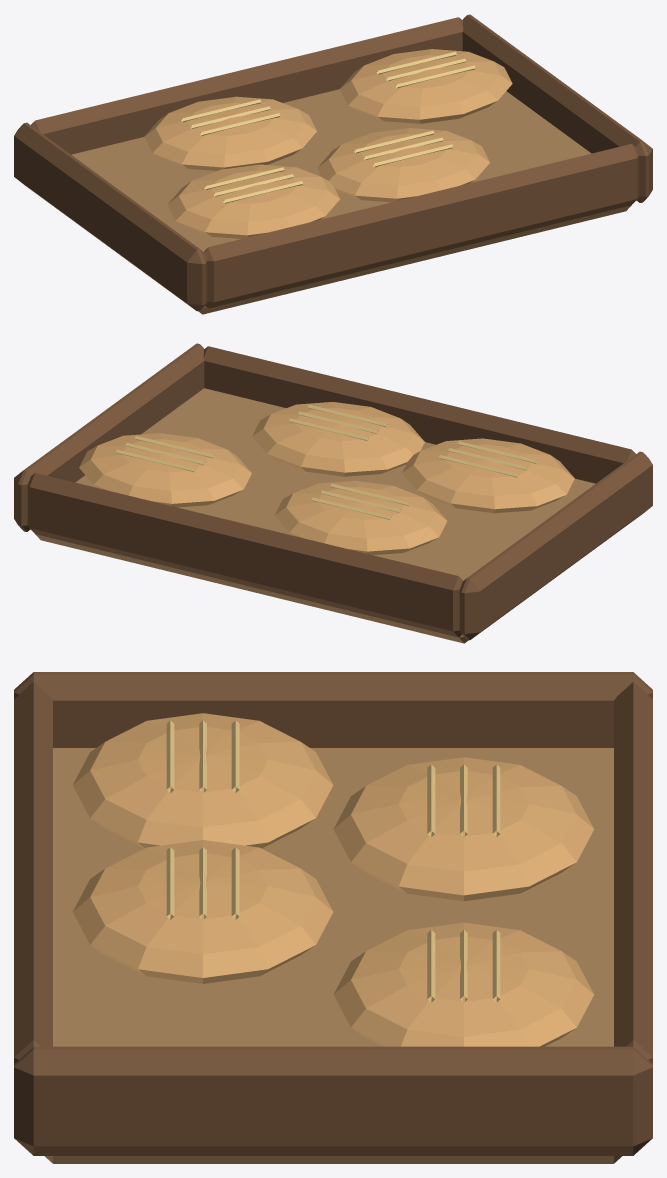
3 renders of one model, top to bottom at view 1: azimuth 30°, elevation 25°; view 2: azimuth 150°, elevation 25°; view 3: azimuth 270°, elevation 25°, orthographic. The views are drawn at different scales.
Visible parts, largest first — view 1: BA-0043 batched; view 2: BA-0043 batched; view 3: BA-0043 batched.
Boxes of the visible parts, x1=… form: BA-0043 batched: x1=14, y1=14, x2=652, y2=314; BA-0043 batched: x1=14, y1=343, x2=652, y2=643; BA-0043 batched: x1=14, y1=672, x2=652, y2=1163.
Bounding box in the file's own units: 0.715 × 0.112 × 0.49.
